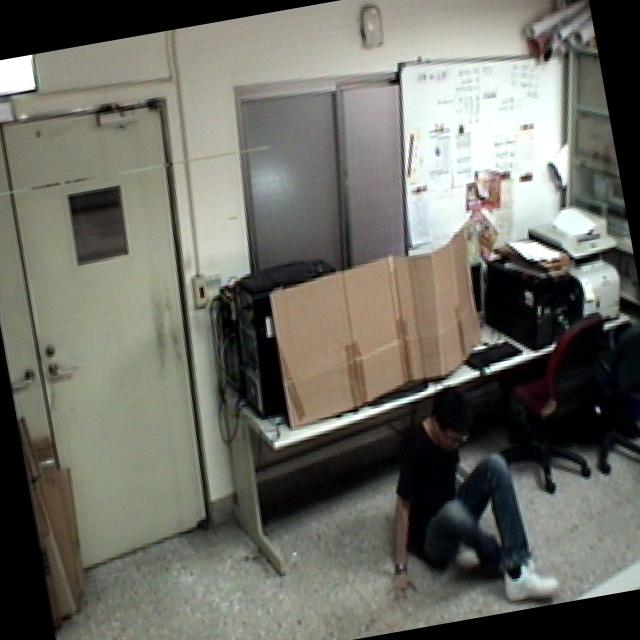sit: (350, 364, 565, 632)
